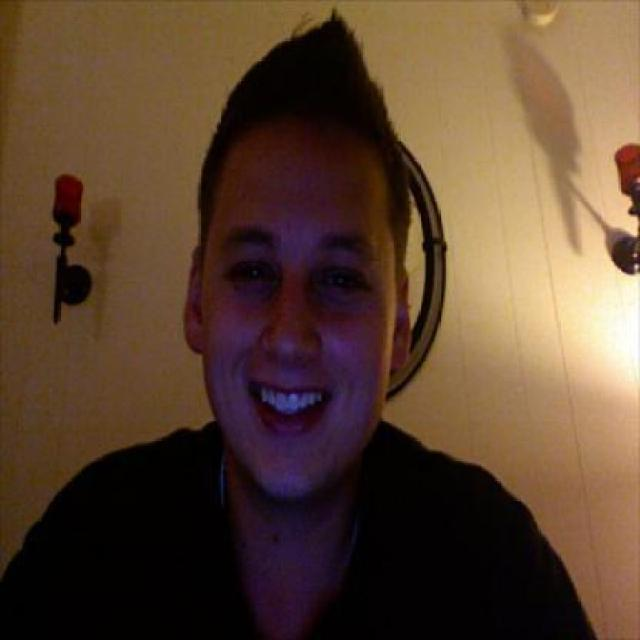Person: (0, 3, 600, 639)
